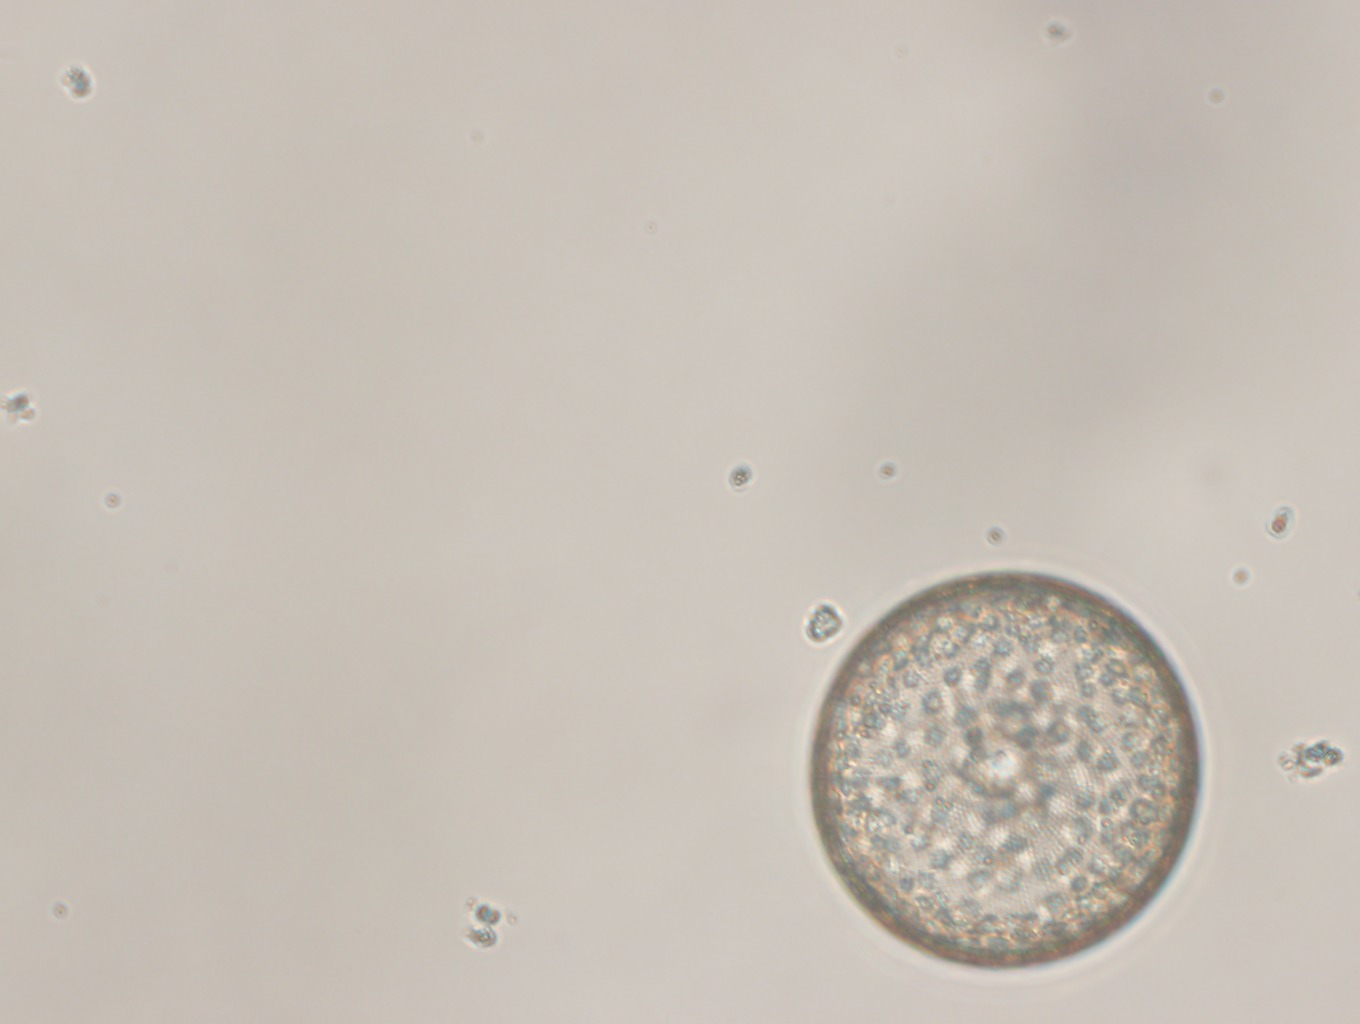coscinodiscus: (803, 563, 1212, 976)
